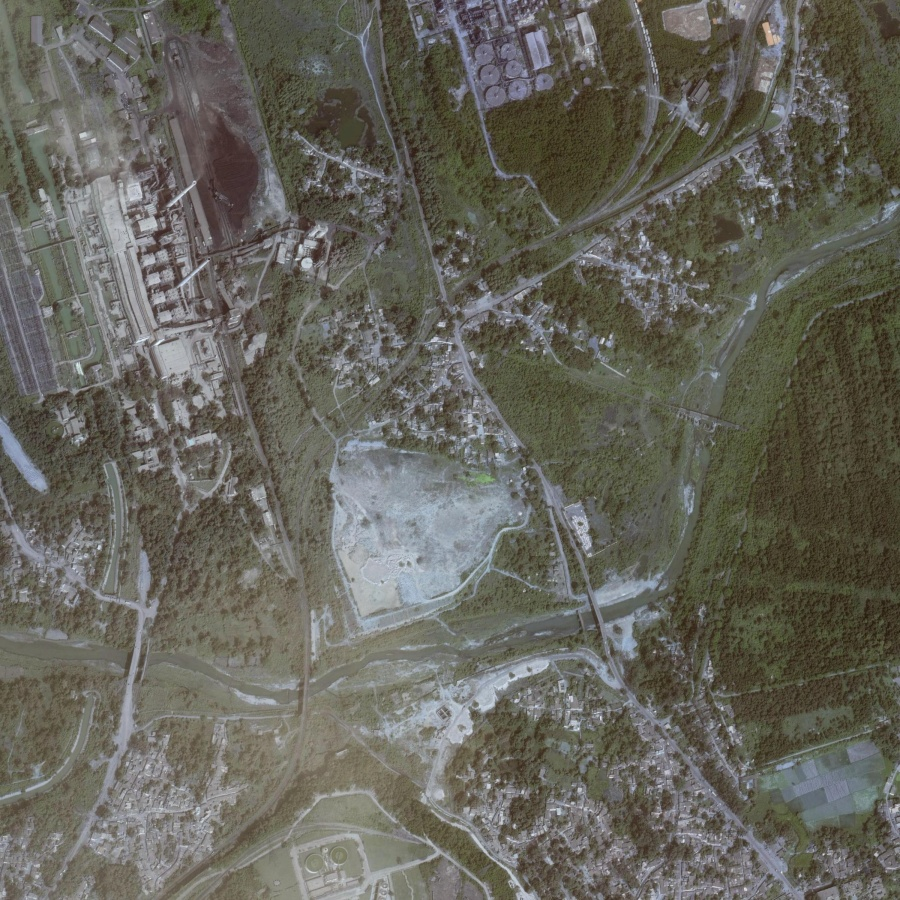PowerPlant: (72, 25, 269, 322)
